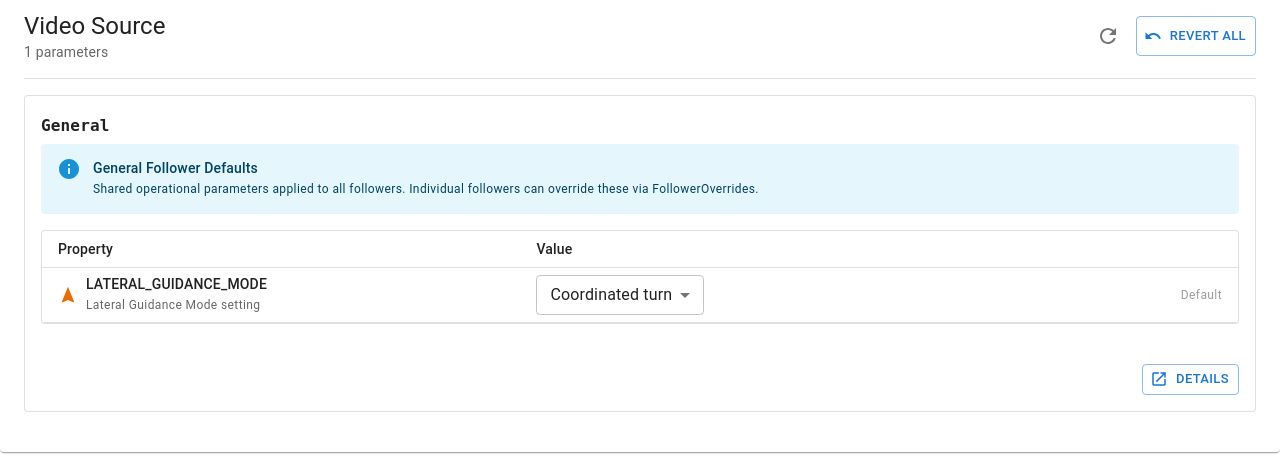
Scenario: passes nested follower enums to the specialized editor
Step 1. Press the mouse on the dropdown → coordinates (611, 295), box [550,285,672,304]
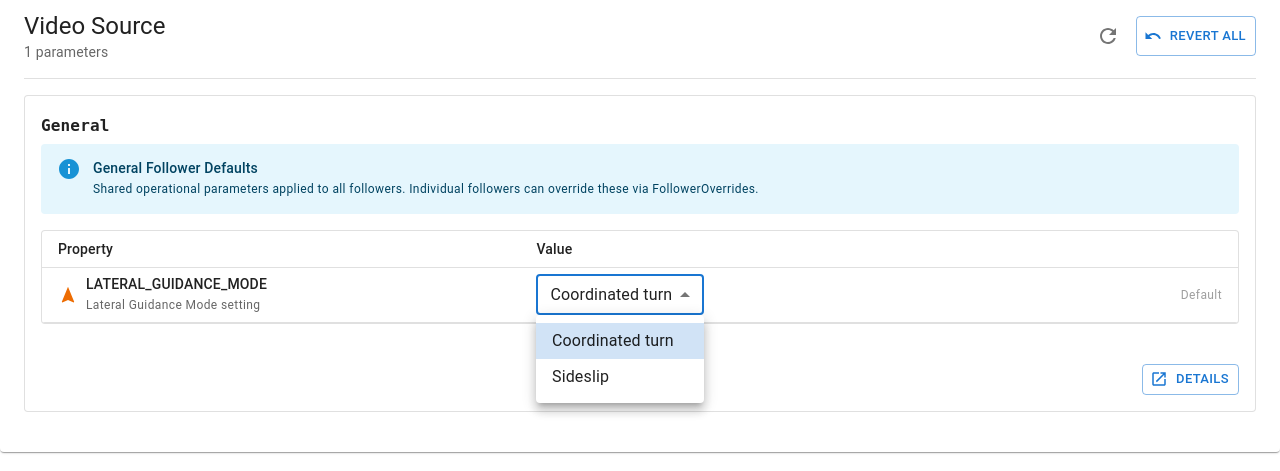
Now the option "Sideslip" is shown, box [552,367,609,386]
